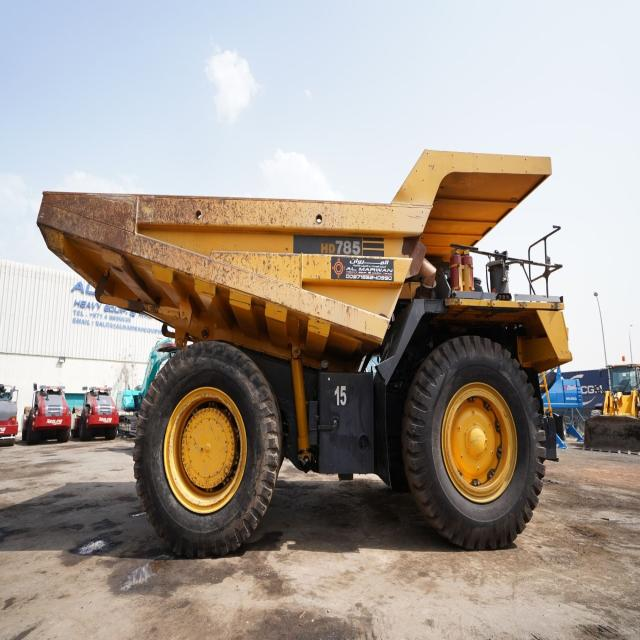dump_truck: (35, 151, 577, 557)
